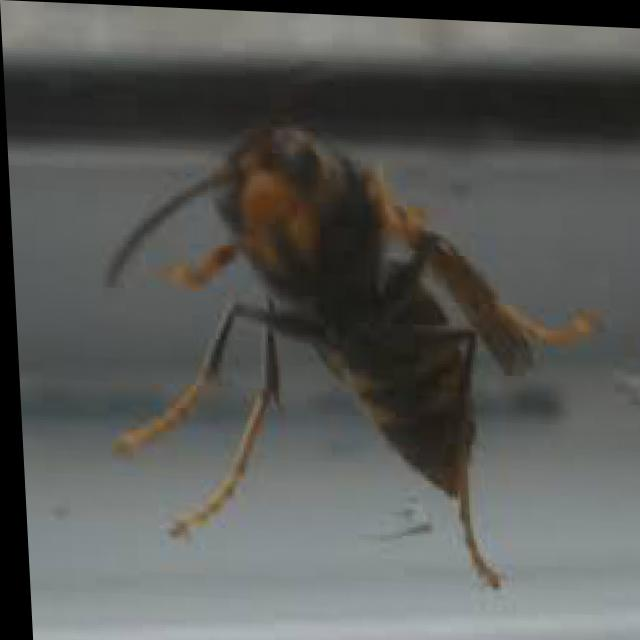Vespa Velutina: (83, 49, 610, 587)
